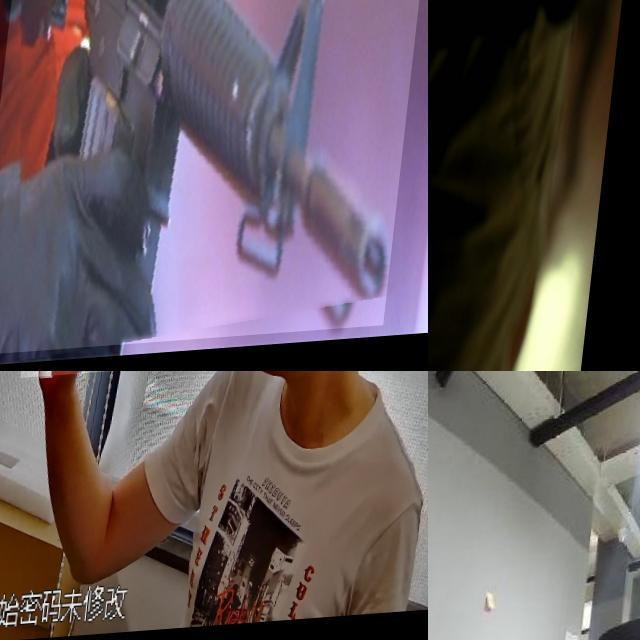gun-knife-thesis - v11 Yolov5 augmented: (0, 0, 428, 358), (428, 0, 617, 371), (28, 371, 160, 504)
